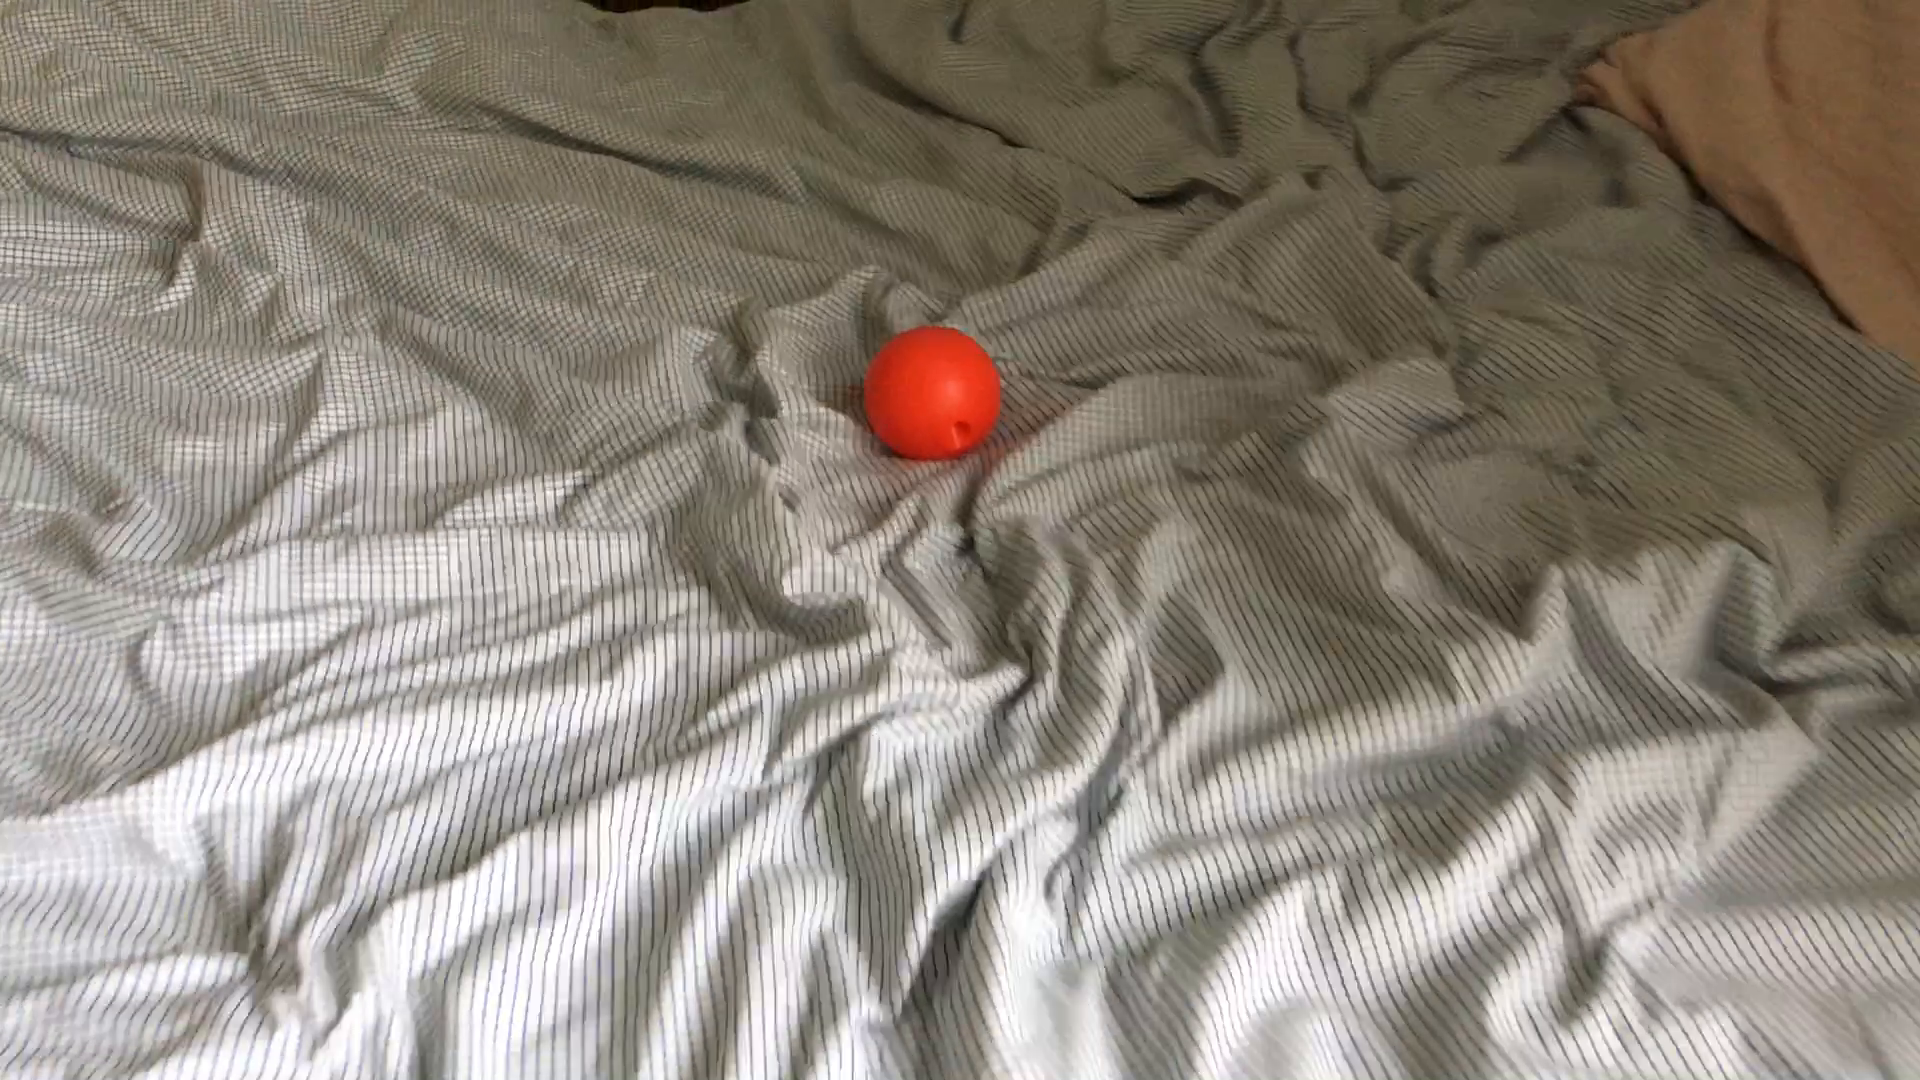Ball: (862, 326, 1005, 462)
